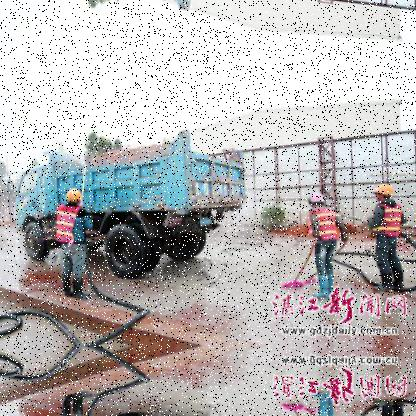Helmet: (370, 180, 402, 209), (62, 184, 88, 210), (306, 188, 330, 212)
